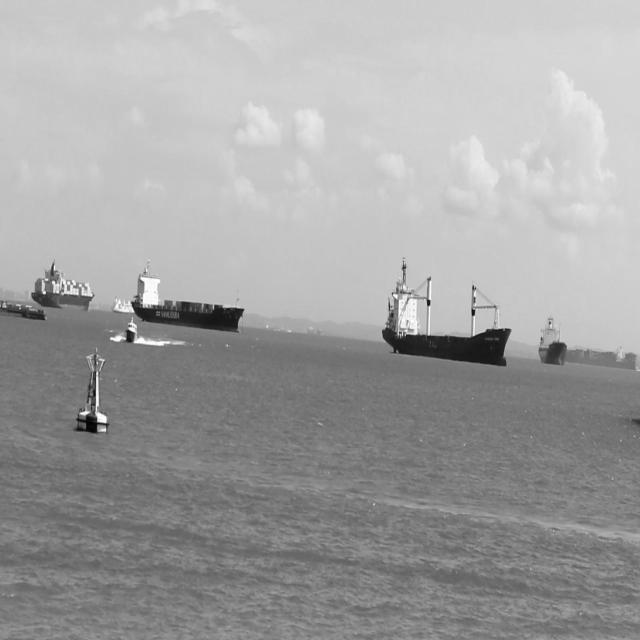buoy: (76, 344, 109, 434)
ship: (382, 256, 512, 367), (132, 260, 244, 331), (29, 257, 94, 310), (564, 345, 637, 371), (537, 312, 564, 366), (0, 301, 46, 321), (111, 294, 131, 315), (124, 315, 138, 343)
